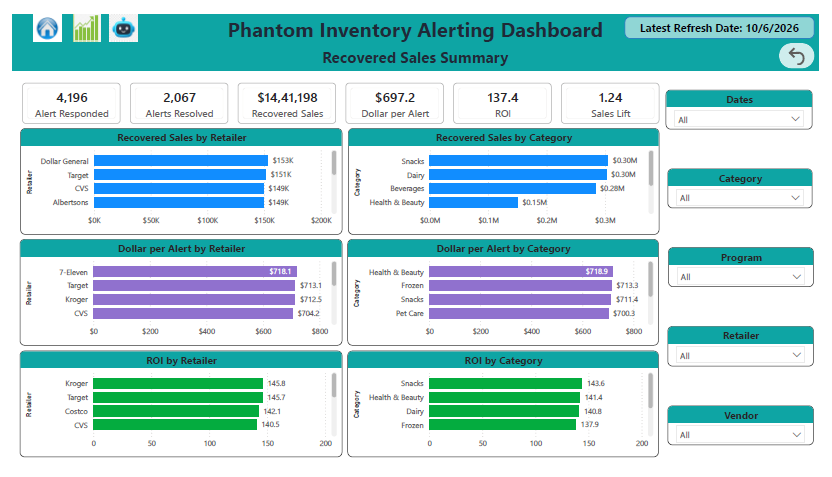

Layout of this report page (visuals, bound fields, positions):
{"tool":"powerbi","page":{"name":"Recovered Sales Details","canvas":[1280,720],"ordinal":1},"visuals":[{"type":"shape","box":[0,0,1280,43.6],"z":0},{"type":"shape","box":[0,45.1,1280,43.6],"z":1000},{"type":"actionButton","box":[1216.8,46.1,56.2,40.3],"z":2000},{"type":"image","box":[27.4,0,57.8,44],"z":3000},{"type":"image","box":[91.2,0,54.7,44.1],"z":4000},{"type":"slicer","title":"Dates","fields":{"Values":["dim_calendar.Financial_Year","dim_calendar.Month_Name","dim_calendar.Date"]},"box":[1036.8,119.5,233.3,63.4],"z":5000},{"type":"slicer","title":"Category","fields":{"Values":["dim_category.Category_Name"]},"box":[1039.7,244.8,230.4,63.4],"z":6000},{"type":"slicer","title":"Program","fields":{"Values":["dim_program.Program_Type","dim_program.Program_Name"]},"box":[1041.1,370.1,230.4,63.4],"z":7000},{"type":"slicer","title":"Retailer","fields":{"Values":["dim_retailer.Retailer_Name"]},"box":[1039.7,495.4,231.8,63.4],"z":8000},{"type":"slicer","title":"Vendor","fields":{"Values":["dim_vendor.Vendor_Region","dim_vendor.Vendor_Name"]},"box":[1039.7,620.6,231.8,63.4],"z":9000},{"type":"cardVisual","fields":{"Data":["Measure.Response Received"]},"box":[16.1,109.4,155.5,64.8],"z":10000},{"type":"cardVisual","fields":{"Data":["Measure.Alerts Resolved"]},"box":[187.1,109.4,155.5,64.8],"z":11000},{"type":"cardVisual","fields":{"Data":["Measure.Recovered Sales"]},"box":[358.2,109.4,155.5,64.8],"z":12000},{"type":"cardVisual","fields":{"Data":["Measure.Dollar per Alert"]},"box":[529.2,109.4,155.5,64.8],"z":13000},{"type":"cardVisual","fields":{"Data":["Measure.ROI"]},"box":[700.2,109.4,155.5,64.8],"z":14000},{"type":"cardVisual","fields":{"Data":["Measure.Sales Lift"]},"box":[871.2,109.4,155.5,64.8],"z":15000},{"type":"clusteredBarChart","fields":{"Category":["dim_retailer.Retailer_Name"],"Y":["Measure.Recovered Sales"]},"box":[13,181.4,511.2,168.5],"z":16000},{"type":"clusteredBarChart","fields":{"Category":["dim_category.Category_Name"],"Y":["Measure.Recovered Sales"]},"box":[532.8,181.4,493.9,168.5],"z":17000},{"type":"clusteredBarChart","fields":{"Category":["dim_retailer.Retailer_Name"],"Y":["Measure.Dollar per Alert"]},"box":[12.4,357.2,511.2,168.5],"z":18000},{"type":"clusteredBarChart","fields":{"Category":["dim_category.Category_Name"],"Y":["Measure.Dollar per Alert"]},"box":[532.2,357.2,493.9,168.5],"z":19000},{"type":"clusteredBarChart","fields":{"Category":["dim_retailer.Retailer_Name"],"Y":["Measure.ROI"]},"box":[12.5,534.3,511.2,168.5],"z":20000},{"type":"clusteredBarChart","fields":{"Category":["dim_category.Category_Name"],"Y":["Measure.ROI"]},"box":[532.3,534.3,493.9,168.5],"z":21000},{"type":"shape","box":[972,4.3,301,34.6],"z":22000},{"type":"image","box":[149.8,0,53.3,44],"z":22001}]}

Visuals, with their boxes in screenshot pixels (x1, y1, x2, y2), scaled from the page's 1280x720 canvas onto the 832x477 screenshot:
shape: box=[0, 0, 831, 29]
shape: box=[0, 30, 831, 59]
actionButton: box=[791, 31, 827, 57]
image: box=[18, 0, 55, 29]
image: box=[59, 0, 95, 29]
"Dates" slicer: box=[674, 79, 826, 121]
"Category" slicer: box=[676, 162, 826, 204]
"Program" slicer: box=[677, 245, 826, 287]
"Retailer" slicer: box=[676, 328, 826, 370]
"Vendor" slicer: box=[676, 411, 826, 453]
cardVisual - Measure.Response Received: box=[10, 72, 112, 115]
cardVisual - Measure.Alerts Resolved: box=[122, 72, 223, 115]
cardVisual - Measure.Recovered Sales: box=[233, 72, 334, 115]
cardVisual - Measure.Dollar per Alert: box=[344, 72, 445, 115]
cardVisual - Measure.ROI: box=[455, 72, 556, 115]
cardVisual - Measure.Sales Lift: box=[566, 72, 667, 115]
clusteredBarChart - dim_retailer.Retailer_Name x Measure.Recovered Sales: box=[8, 120, 341, 232]
clusteredBarChart - dim_category.Category_Name x Measure.Recovered Sales: box=[346, 120, 667, 232]
clusteredBarChart - dim_retailer.Retailer_Name x Measure.Dollar per Alert: box=[8, 237, 340, 348]
clusteredBarChart - dim_category.Category_Name x Measure.Dollar per Alert: box=[346, 237, 667, 348]
clusteredBarChart - dim_retailer.Retailer_Name x Measure.ROI: box=[8, 354, 340, 466]
clusteredBarChart - dim_category.Category_Name x Measure.ROI: box=[346, 354, 667, 466]
shape: box=[632, 3, 827, 26]
image: box=[97, 0, 132, 29]
